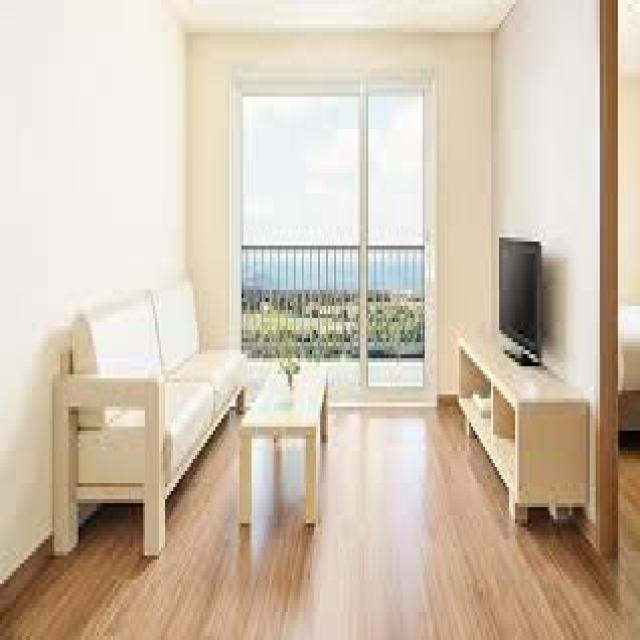Sofa: (51, 278, 246, 582)
Table: (244, 348, 332, 542)
tv: (495, 232, 545, 359)
window: (234, 89, 425, 373)
